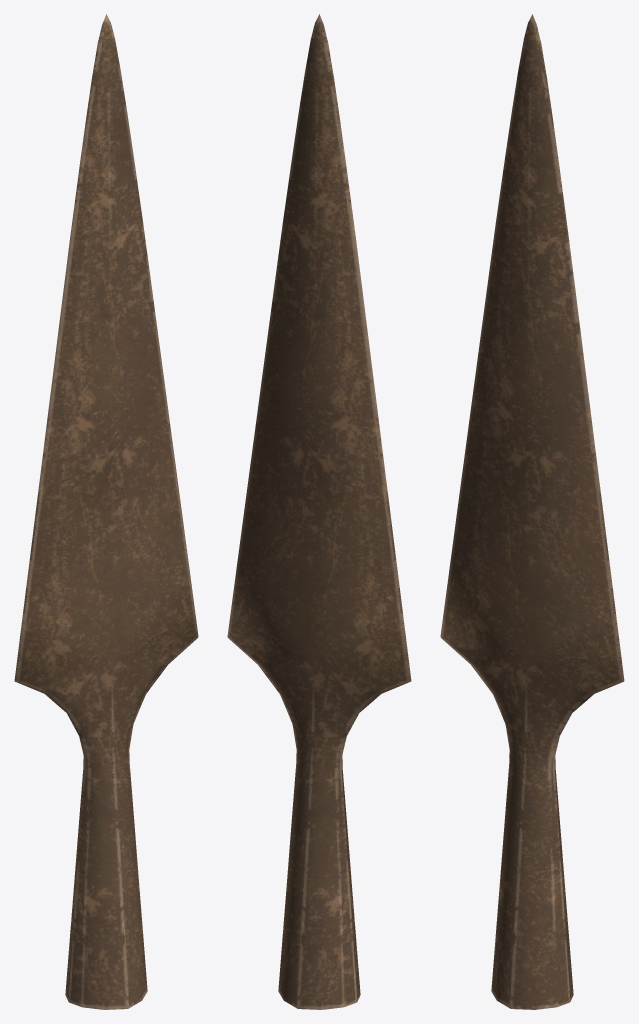
File: dunland_caerdh_spear_head_a.fbx
The picture shows the model from 3 angles, left to right: view 1: azimuth 30°, elevation 25°; view 2: azimuth 150°, elevation 25°; view 3: azimuth 330°, elevation 25°; orthographic projection.
Parts seen in each view (by area): view 1: dunland_caerdh_spear_head_a; view 2: dunland_caerdh_spear_head_a; view 3: dunland_caerdh_spear_head_a.
Part boxes in pixels (bbox=[...]): dunland_caerdh_spear_head_a: bbox=[14, 14, 198, 1009]; dunland_caerdh_spear_head_a: bbox=[227, 14, 411, 1009]; dunland_caerdh_spear_head_a: bbox=[440, 14, 624, 1009].
Size of the model in its own units: 0.0985 by 0.04 by 0.5007.
Materials: 1 (1 with a texture image).
